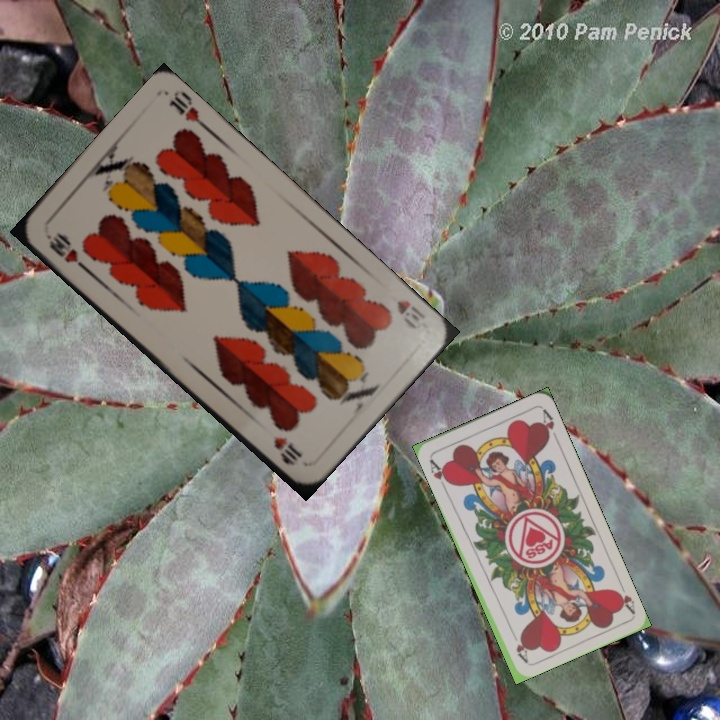H10: (42, 229, 90, 274), (392, 296, 430, 333)
HA: (610, 577, 638, 616), (425, 455, 453, 492)
